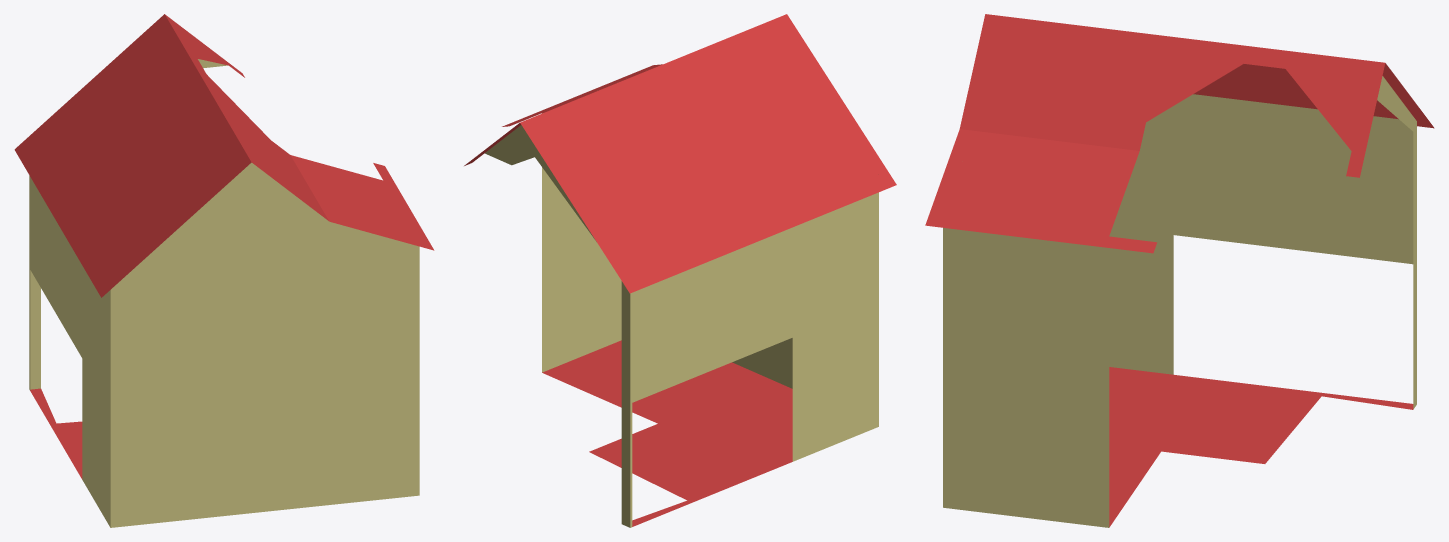
3 views of the same model, side by side, from view 1: azimuth 30°, elevation 25°; view 2: azimuth 150°, elevation 25°; view 3: azimuth 270°, elevation 25° (orthographic). The views are drawn at different scales.
Size of the model in its own units: 15.53 by 17.78 by 15.77.
